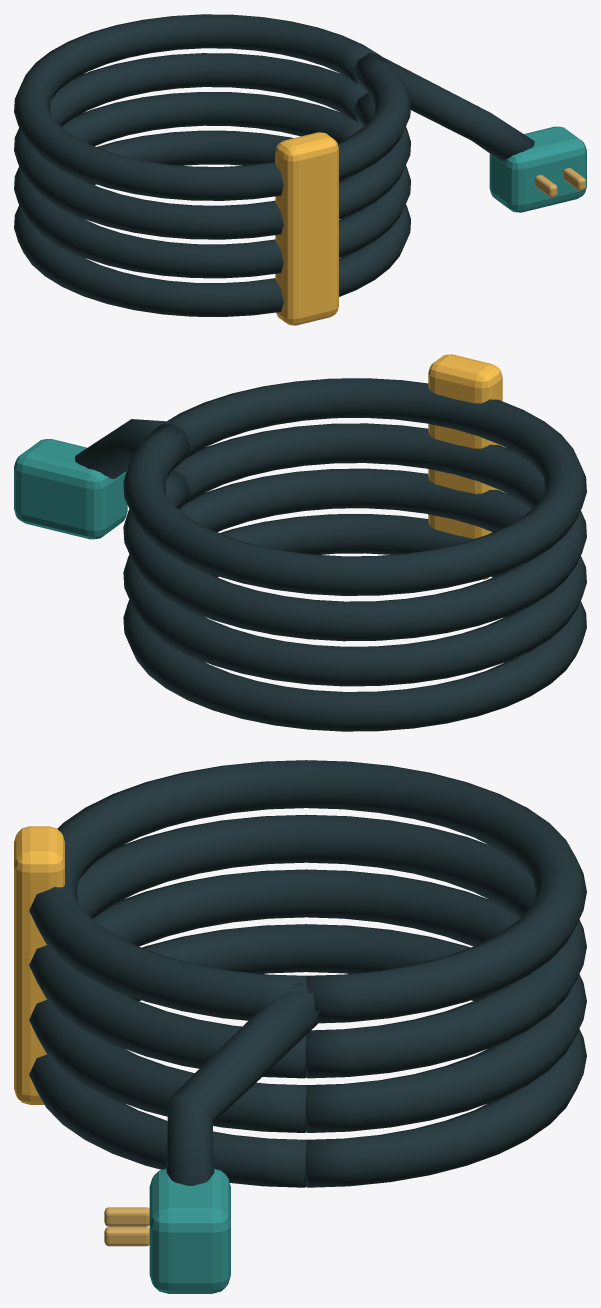
Rendered from cable.glb.
The picture shows the model from 3 angles, top to bottom: view 1: azimuth 30°, elevation 25°; view 2: azimuth 150°, elevation 25°; view 3: azimuth 270°, elevation 25°; orthographic projection. The views are drawn at different scales.
Visible parts, largest first — view 1: GEO-cable; view 2: GEO-cable; view 3: GEO-cable.
Part boxes in pixels (x1,y1,x2,y2): GEO-cable: (14, 14, 586, 325); GEO-cable: (14, 354, 586, 731); GEO-cable: (14, 760, 586, 1293).
Bounding box in the file's own units: 0.3485 × 0.12 × 0.247.
